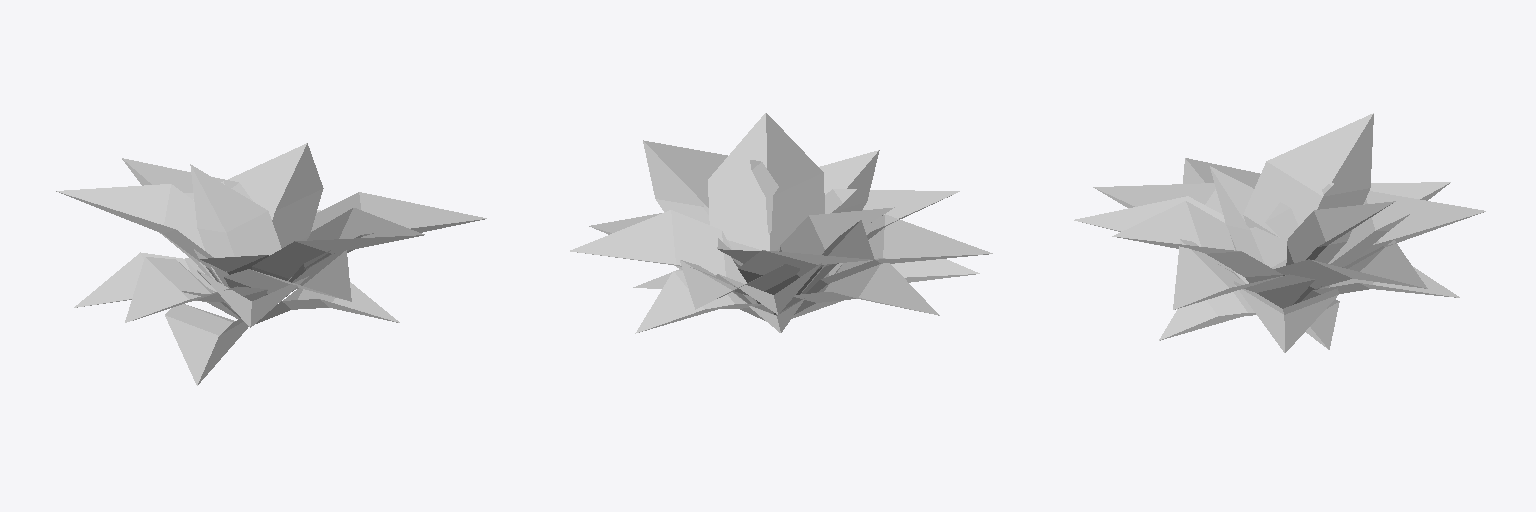
Rendered from fern.obj.
3 renders of one model, left to right at view 1: azimuth 30°, elevation 25°; view 2: azimuth 150°, elevation 25°; view 3: azimuth 270°, elevation 25°, orthographic.
Visible parts, largest first — view 1: Plane.001, Plane.013, Plane.005, Plane.009, Plane.004, Plane.010, Plane.002, Plane.003, Plane.011, Plane.015, Plane.016, Plane (+1 smaller); view 2: Plane.009, Plane.001, Plane.002, Plane.004, Plane.011, Plane.005, Plane.007, Plane.016, Plane.017, Plane, Plane.003, Plane.010 (+3 smaller); view 3: Plane.005, Plane.009, Plane.002, Plane.017, Plane, Plane.001, Plane.013, Plane.008, Plane.015, Plane.016, Plane.006, Plane.003 (+3 smaller).
Boxes of the visible parts, box(x1,y1,x2,y2) form: Plane.001: box(221, 143, 323, 247); Plane.013: box(190, 164, 281, 284); Plane.005: box(56, 184, 229, 288); Plane.009: box(252, 208, 424, 280); Plane.004: box(125, 257, 267, 322); Plane.010: box(165, 304, 248, 385); Plane.002: box(288, 192, 486, 282); Plane.003: box(224, 250, 351, 301); Plane.011: box(74, 252, 239, 318); Plane.015: box(256, 282, 399, 323); Plane.016: box(197, 270, 309, 327); Plane: box(122, 158, 252, 279); Plane.009: box(708, 113, 824, 251); Plane.001: box(570, 210, 755, 303); Plane.002: box(643, 140, 778, 234); Plane.004: box(806, 214, 992, 293); Plane.011: box(782, 258, 939, 315); Plane.005: box(738, 220, 874, 282); Plane.007: box(635, 271, 772, 333); Plane.016: box(802, 189, 959, 293); Plane.017: box(779, 207, 894, 254); Plane: box(680, 260, 799, 309); Plane.003: box(800, 150, 879, 294); Plane.010: box(792, 259, 979, 318); Plane.005: box(1243, 113, 1373, 263); Plane.009: box(1112, 201, 1282, 283); Plane.002: box(1173, 239, 1314, 309); Plane.017: box(1210, 166, 1298, 268); Plane: box(1315, 191, 1485, 289); Plane.001: box(1274, 239, 1427, 304); Plane.013: box(1286, 201, 1395, 265); Plane.008: box(1234, 281, 1338, 352); Plane.015: box(1159, 290, 1255, 340); Plane.016: box(1093, 183, 1222, 214); Plane.006: box(1319, 182, 1450, 288); Plane.003: box(1074, 196, 1248, 283).
Size of the model in its own units: 1.76 by 0.6387 by 1.77.